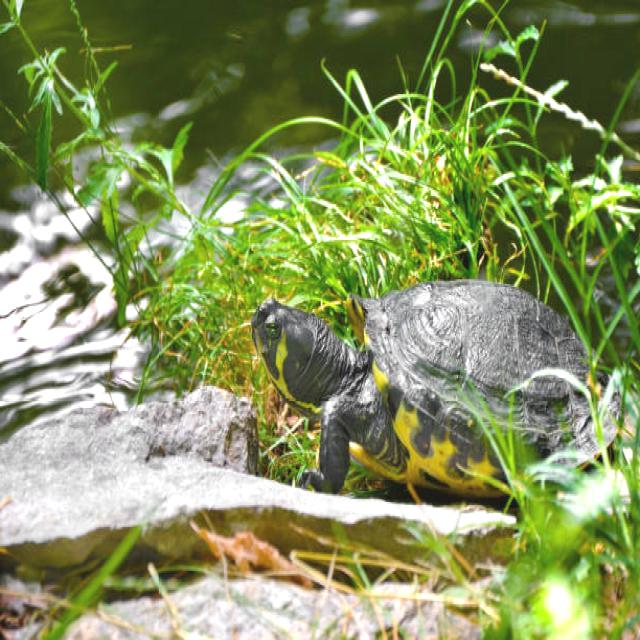tortoise: (250, 280, 618, 498)
